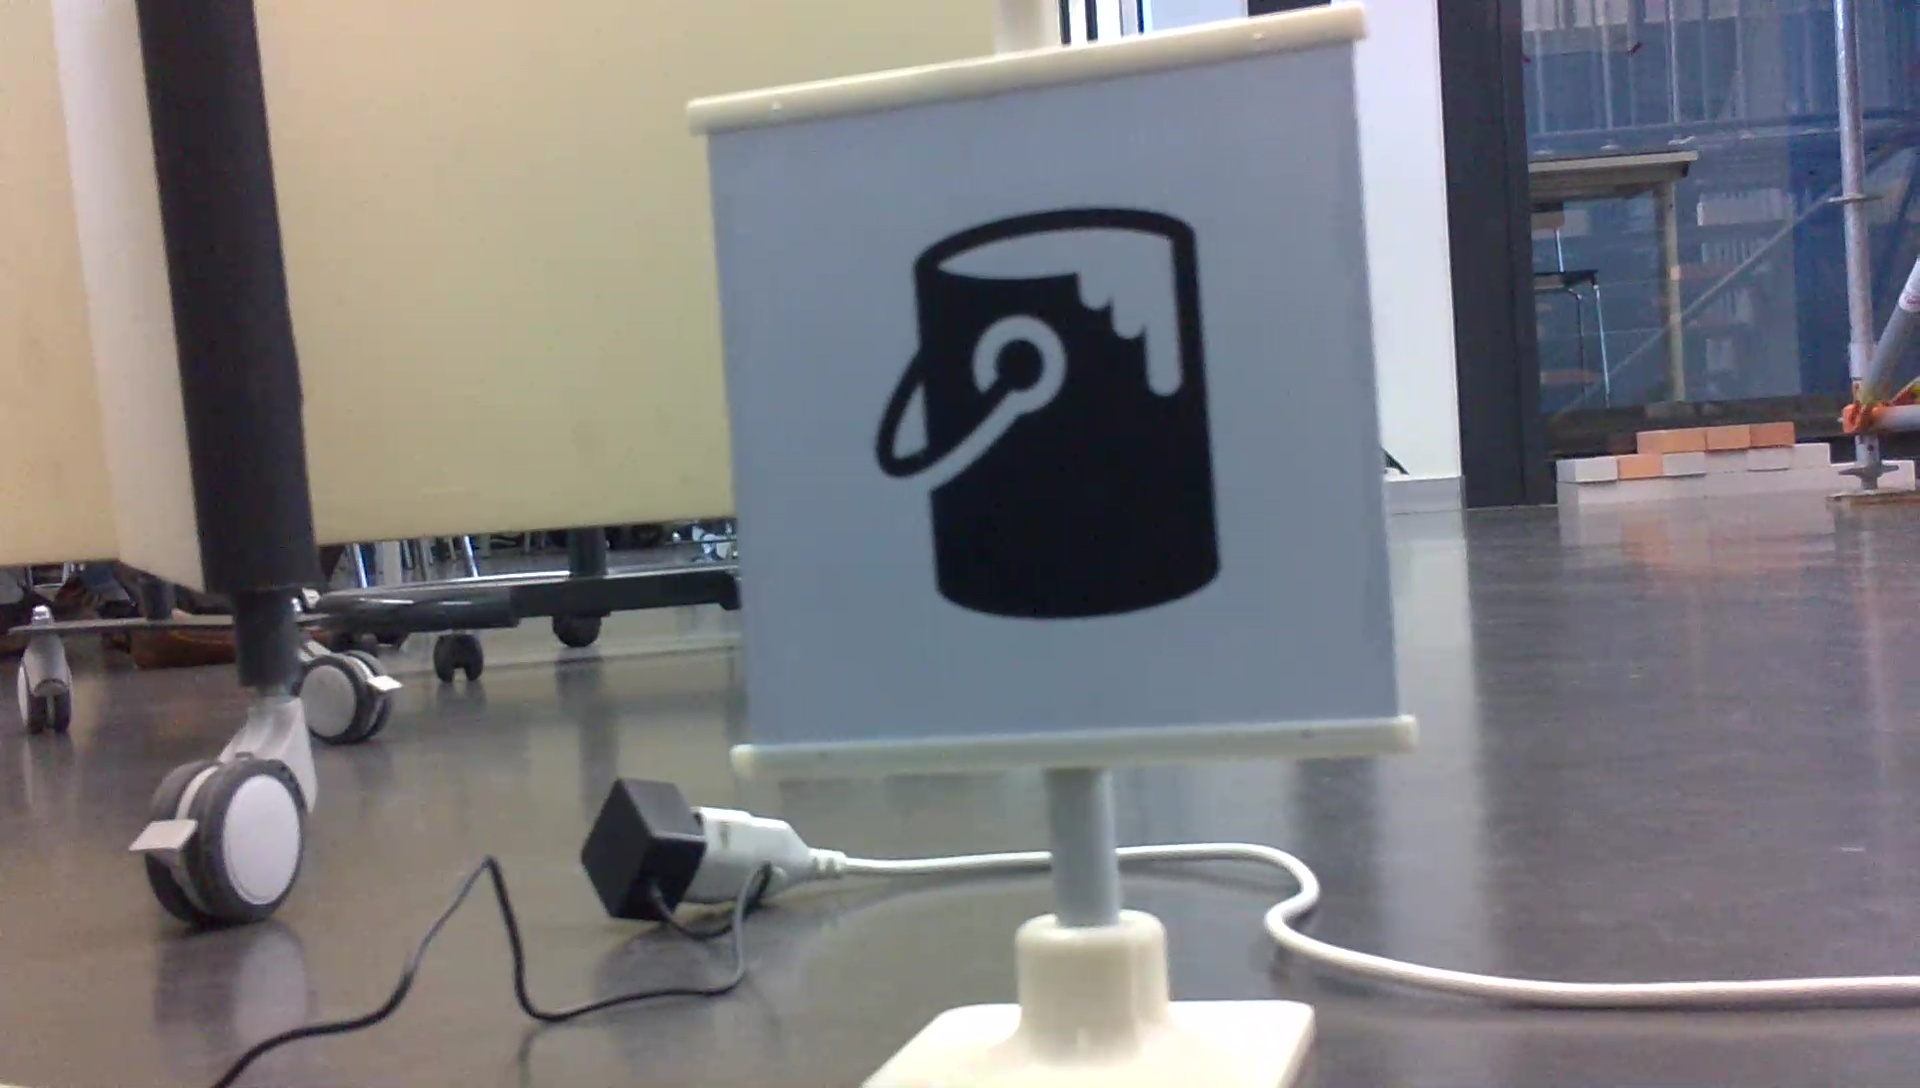bucket: (866, 198, 1230, 628)
